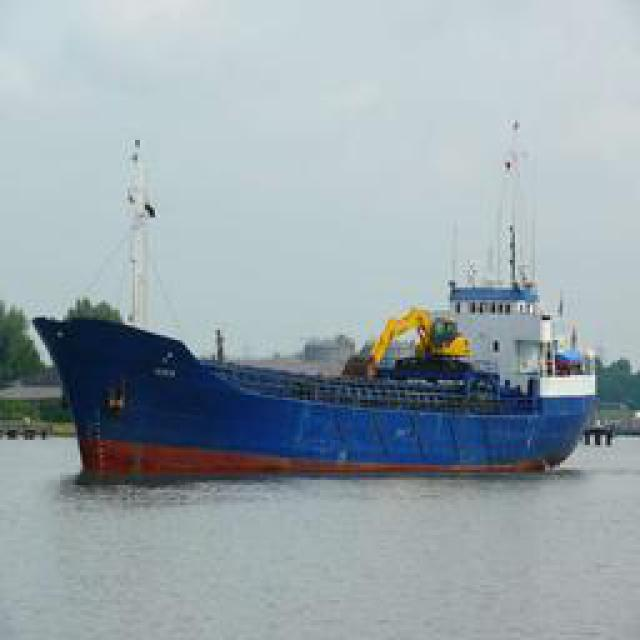Ship: (31, 291, 594, 484)
